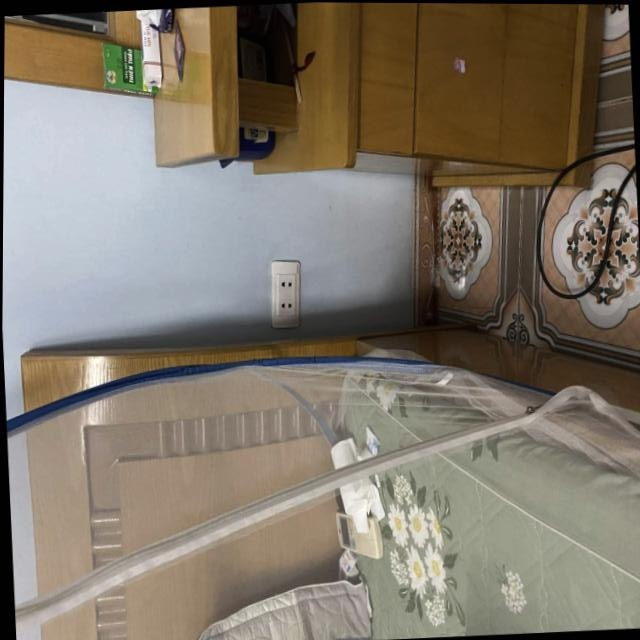outlet: (268, 259, 303, 330)
